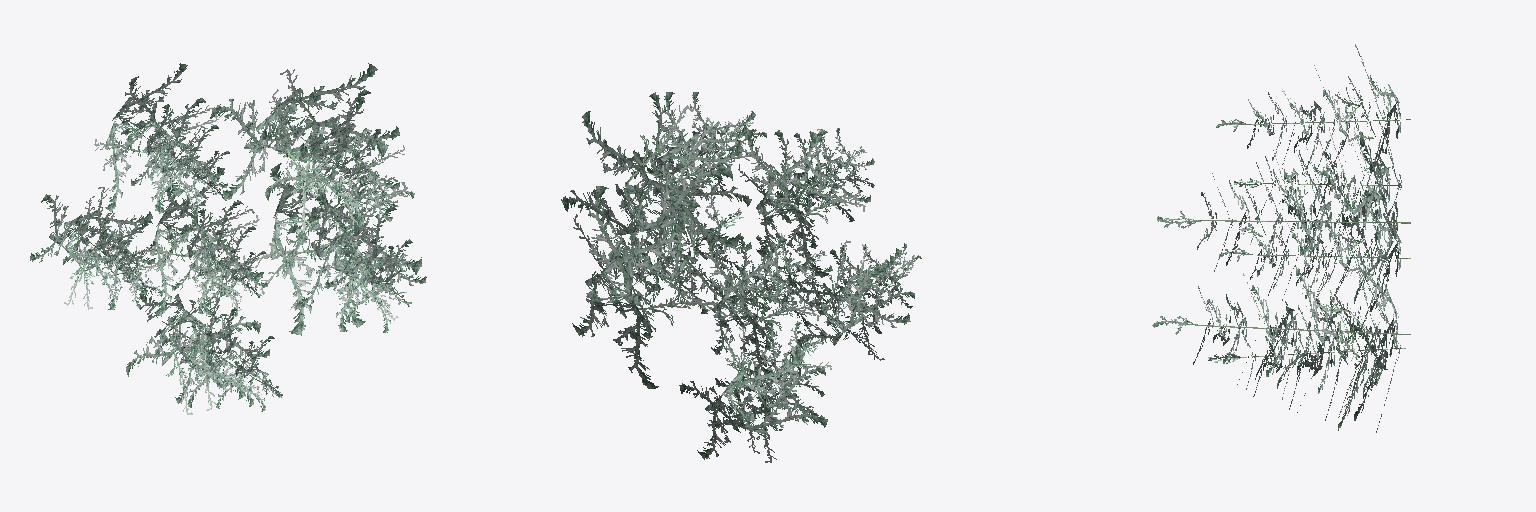
3 views of the same model, side by side, from view 1: azimuth 30°, elevation 25°; view 2: azimuth 150°, elevation 25°; view 3: azimuth 270°, elevation 25° (orthographic).
Visible parts, largest first — view 1: Group; view 2: Group; view 3: Group.
Boxes of the visible parts, box(x1,y1,x2,y2) form: Group: box(30, 63, 426, 414); Group: box(561, 92, 921, 462); Group: box(1152, 44, 1410, 432).
Size of the model in its own units: 2.19 by 2.02 by 1.35.
4 materials, 4 textured.